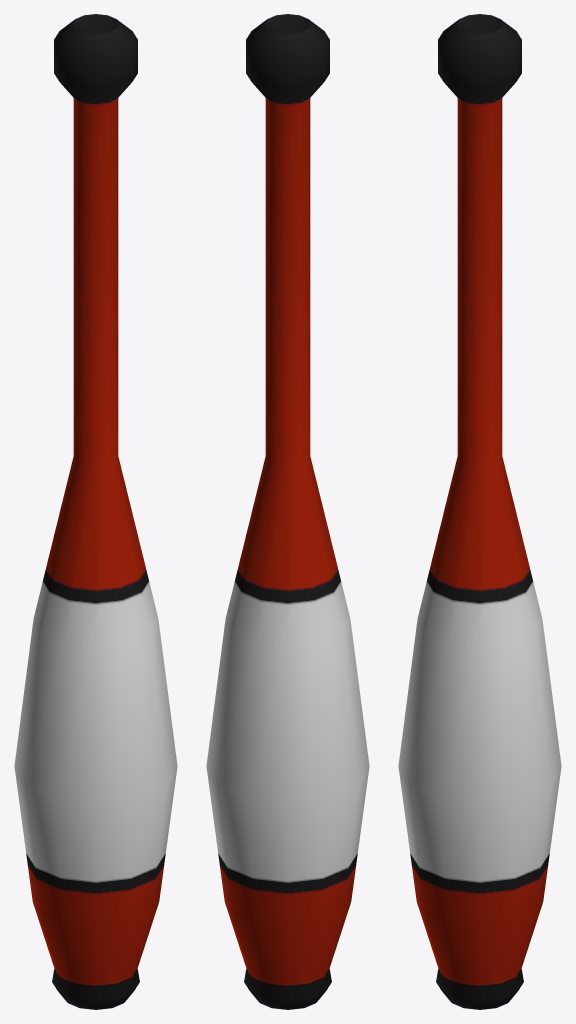
File: Pinred.fbx
3 renders of one model, left to right at view 1: azimuth 30°, elevation 25°; view 2: azimuth 150°, elevation 25°; view 3: azimuth 270°, elevation 25°, orthographic.
Visible parts, largest first — view 1: Pin_red; view 2: Pin_red; view 3: Pin_red.
Boxes of the visible parts, x1,y1,x2,y2 form: Pin_red: (14,14,177,1009); Pin_red: (206,14,369,1009); Pin_red: (398,14,561,1009).
Bounding box in the file's own units: 14.29 × 93.97 × 14.29.
